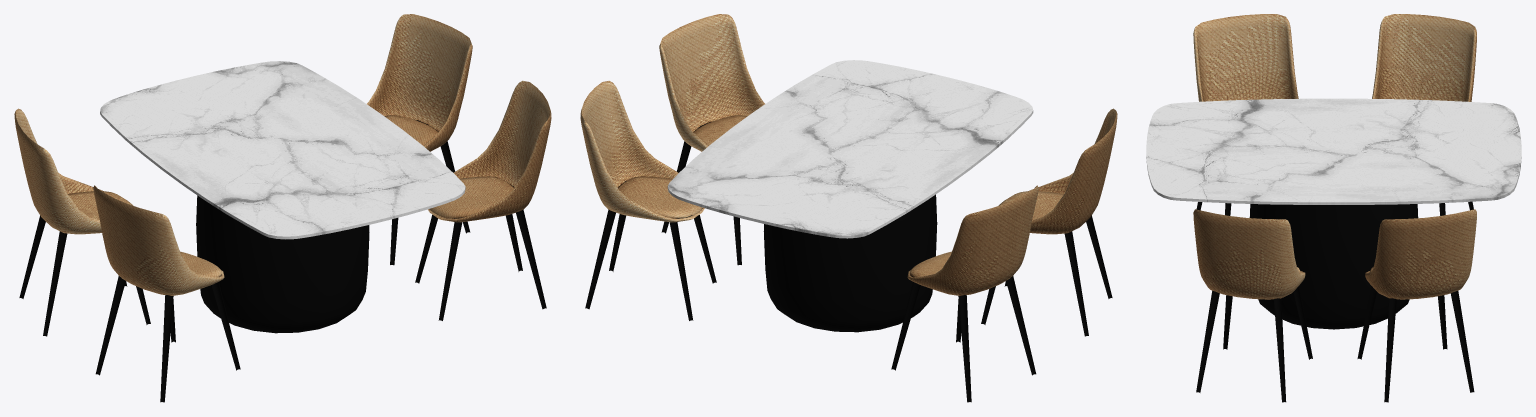
File: Four_Seater_Dining_Table_01.fbx
3 views of the same model, side by side, from view 1: azimuth 30°, elevation 25°; view 2: azimuth 150°, elevation 25°; view 3: azimuth 270°, elevation 25° (orthographic). The views are drawn at different scales.
Visible parts, largest first — view 1: 4_Seater; view 2: 4_Seater; view 3: 4_Seater.
Boxes of the visible parts, <box> form: 4_Seater: <box>14,14,551,402</box>; 4_Seater: <box>580,14,1117,402</box>; 4_Seater: <box>1146,14,1521,402</box>.
Size of the model in its own units: 216 by 91.02 by 166.
Materials: 1 (1 with a texture image).
